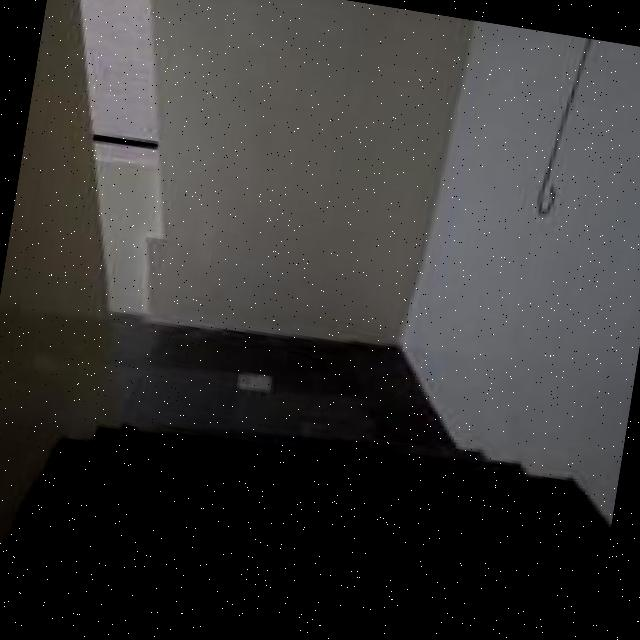stairs: (0, 371, 617, 640)
